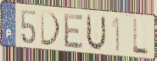1: (111, 16, 121, 54)
5: (20, 8, 37, 45)
D: (39, 10, 62, 48)
E: (63, 12, 85, 49)
L: (132, 18, 150, 57)
U: (85, 13, 108, 52)
